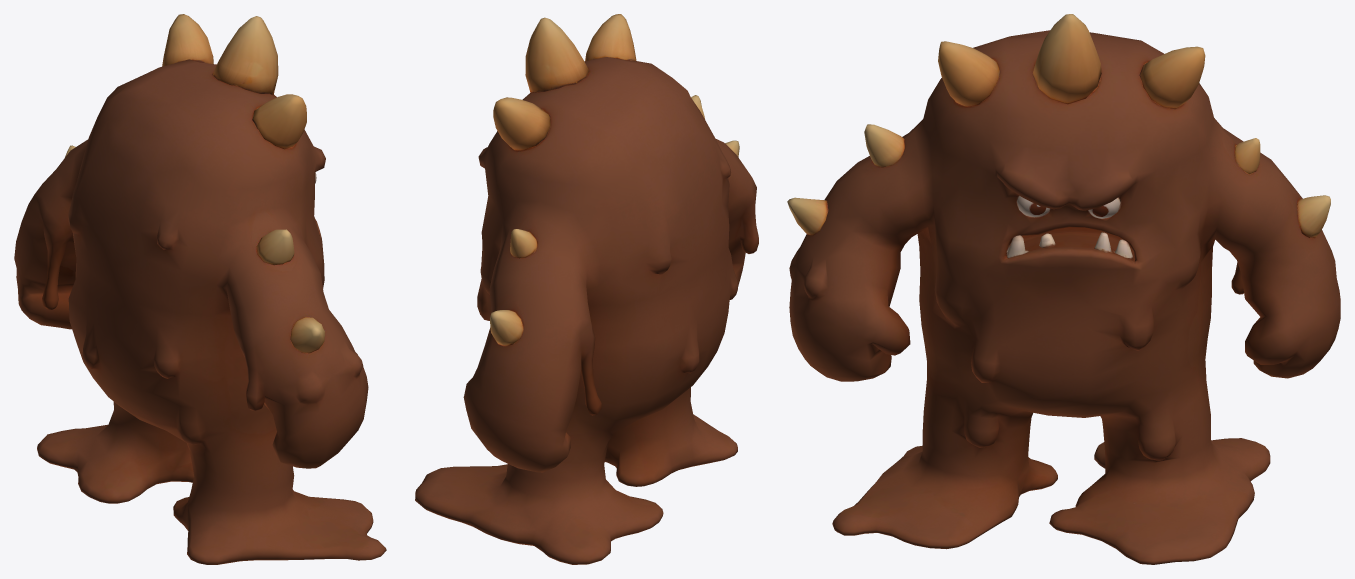
Rendered from qiaokeliboss 1.fbx.
3 views of the same model, side by side, from view 1: azimuth 30°, elevation 25°; view 2: azimuth 150°, elevation 25°; view 3: azimuth 270°, elevation 25° (orthographic). The views are drawn at different scales.
Parts seen in each view (by area): view 1: chocolateBoss; view 2: chocolateBoss; view 3: chocolateBoss.
Part boxes in pixels (x1,y1,x2,y2): chocolateBoss: (14,14,386,564); chocolateBoss: (415,14,758,564); chocolateBoss: (787,14,1340,564).
Size of the model in its own units: 0.5555 by 1 by 0.9873.
